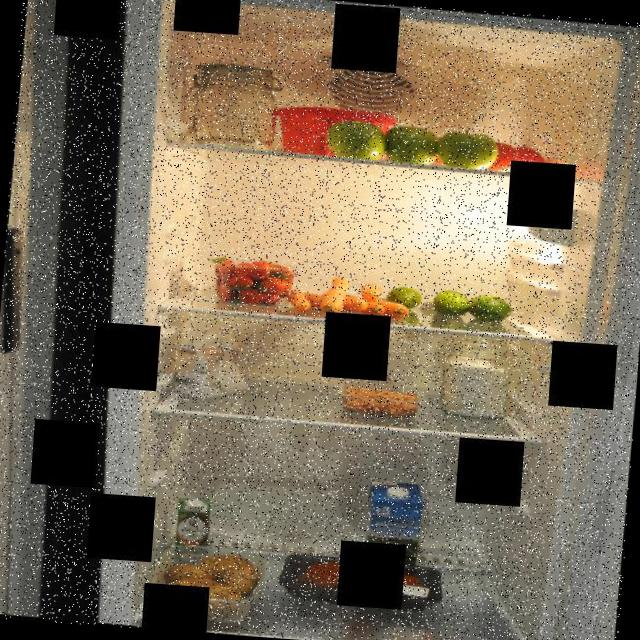Carne vacuno: (274, 550, 446, 616)
Gambas/Langostinos: (340, 381, 421, 417)
Leche: (358, 476, 430, 574)
Mantequilla: (268, 101, 396, 161)
Manzana: (320, 113, 505, 174)
Patata: (152, 538, 268, 626)
Tomate: (486, 136, 552, 176)
Zanahoria: (284, 269, 414, 324)
flour: (173, 50, 285, 162), (172, 324, 258, 421)
heavy_cream: (171, 496, 211, 565)
strawberries: (202, 248, 302, 310)
sugar: (436, 330, 516, 421)
